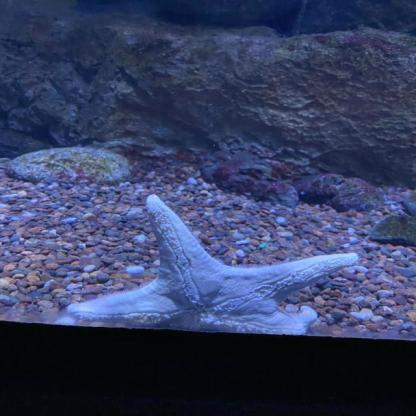starfish: (68, 193, 359, 339)
